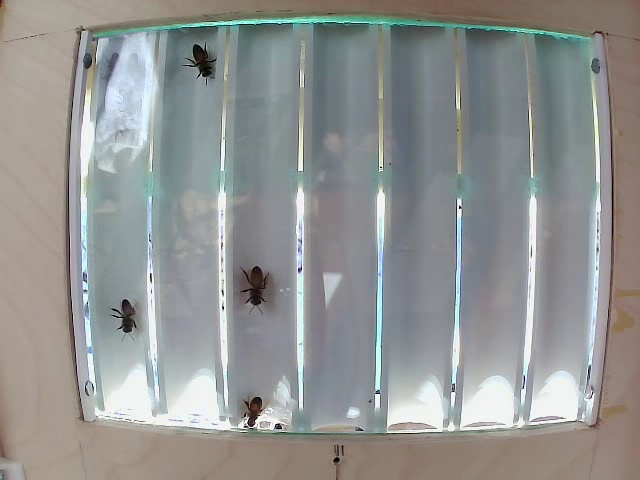bee: (226, 247, 299, 312), (96, 290, 145, 343), (183, 35, 223, 94)
